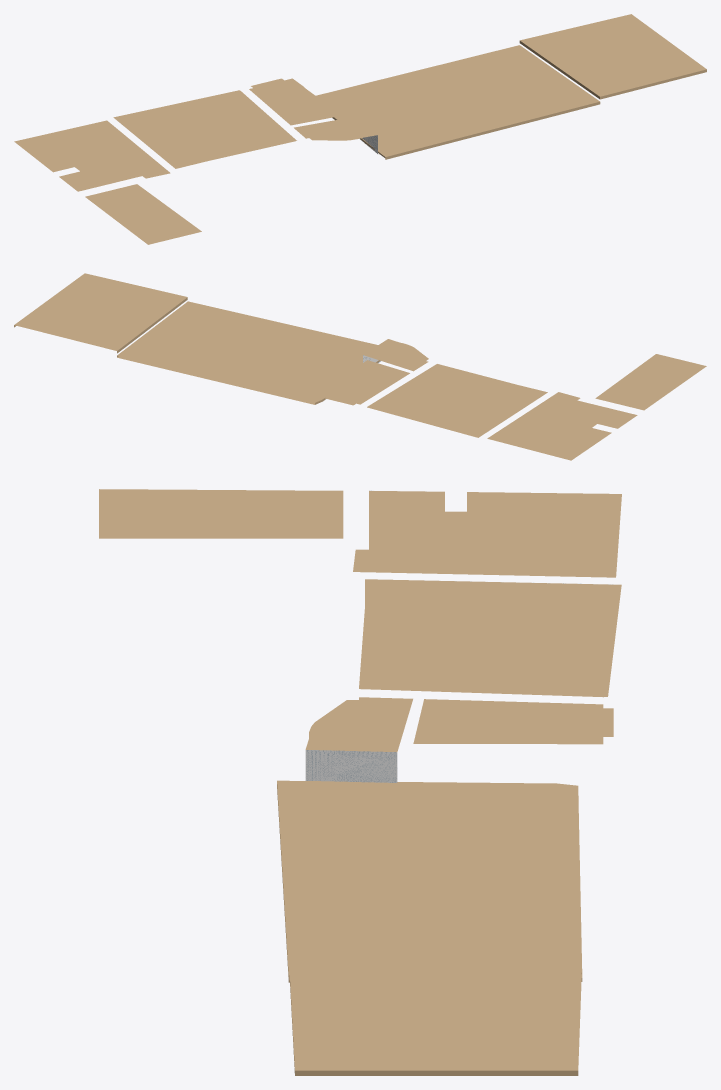
Rendered from podlaha_1_patro.dae.
3 views of the same model, one above another, from view 1: azimuth 30°, elevation 25°; view 2: azimuth 150°, elevation 25°; view 3: azimuth 270°, elevation 25° (orthographic). The views are drawn at different scales.
Parts seen in each view (by area): view 1: SketchUp (×4), group_1, group_2, group_0; view 2: SketchUp (×4), group_1, group_2, group_0; view 3: SketchUp (×5), group_1, group_2, group_0.
Boxes of the visible parts, box(x1,y1,x2,y2) form: SketchUp (×4): box(14, 78, 377, 191); group_1: box(316, 45, 600, 159); group_2: box(519, 14, 706, 99); group_0: box(85, 184, 201, 244); SketchUp (×4): box(320, 339, 637, 460); group_1: box(117, 301, 380, 404); group_2: box(14, 273, 187, 353); group_0: box(595, 354, 706, 410); SketchUp (×5): box(305, 491, 621, 782); group_1: box(277, 780, 582, 982); group_2: box(289, 969, 581, 1075); group_0: box(99, 489, 343, 538).
Bounding box in the file's own units: 918 × 363 × 28.74.
